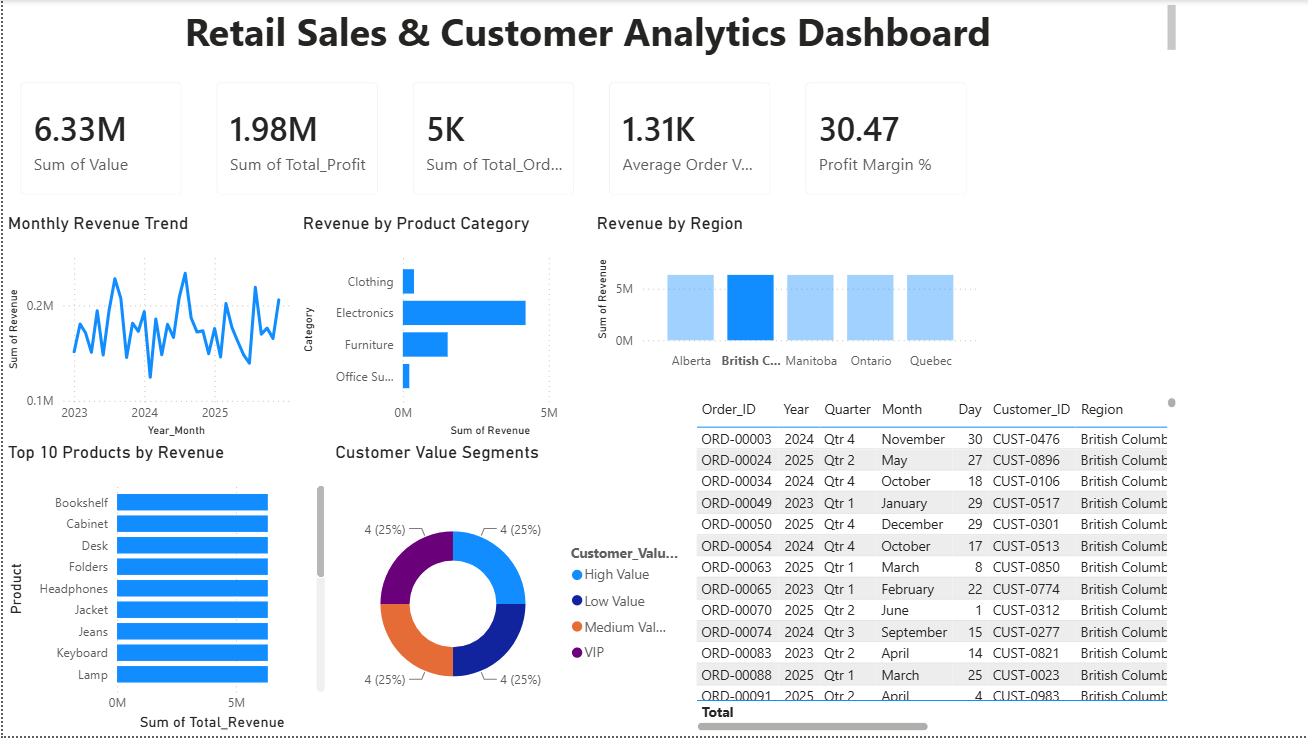

What the dashboard file says about the page in this screenshot:
{"tool":"powerbi","page":{"name":"Page 1","canvas":[1280,720],"ordinal":0},"visuals":[{"type":"textbox","box":[0,0,1152,64],"z":0},{"type":"cardVisual","fields":{"Data":["Sum(retail_kpis.Value)"]},"box":[0,64,192,144],"z":1},{"type":"cardVisual","fields":{"Data":["Sum(customer summary.Total_Profit)"]},"box":[192,64,192,144],"z":2},{"type":"cardVisual","fields":{"Data":["Sum(customer summary.Total_Orders)"]},"box":[384,64,192,144],"z":3},{"type":"cardVisual","fields":{"Data":["customer summary.Average Order Value"]},"box":[576,64,192,144],"z":4},{"type":"cardVisual","fields":{"Data":["customer summary.Profit Margin %"]},"box":[768,64,192,144],"z":5},{"type":"lineChart","title":"Monthly Revenue Trend","fields":{"Y":["Sum(monthly sales.Revenue)"],"Category":["monthly sales.Year_Month"]},"box":[0,208,288,224],"z":6},{"type":"clusteredBarChart","title":"Revenue by Product Category","fields":{"Category":["product summary.Category"],"Y":["Sum(product summary.Revenue)"]},"box":[288,208,288,224],"z":7},{"type":"clusteredColumnChart","title":"Revenue by Region","fields":{"Category":["region summary.Region"],"Y":["Sum(product summary.Revenue)"]},"box":[576,208,384,160],"z":8},{"type":"clusteredBarChart","title":"Top 10 Products by Revenue","fields":{"Y":["Sum(customer summary.Total_Revenue)"],"Category":["product summary.Product"]},"box":[0,432,320,288],"z":9},{"type":"donutChart","title":"Customer Value Segments","fields":{"Category":["customer summary.Customer_Value_Segment"],"Y":["CountNonNull(customer_segment_summary.Customers)"]},"box":[320,432,352,288],"z":10},{"type":"tableEx","fields":{"Values":["retail sales.Order_ID","retail sales.Order_Date.Variation.Date Hierarchy.Year","retail sales.Order_Date.Variation.Date Hierarchy.Quarter","retail sales.Order_Date.Variation.Date Hierarchy.Month","retail sales.Order_Date.Variation.Date Hierarchy.Day","customer summary.Customer_ID","region summary.Region","product summary.Category","product summary.Product","Sum(retail sales.Quantity)","customer_segment_summary.Revenue","customer_segment_summary.Profit"]},"box":[672,384,480,336],"z":11}]}

Visuals, with their boxes in screenshot pixels (x1, y1, x2, y2), scaled from the page's 1280x720 canvas onto the 1308x738 screenshot:
textbox: <box>0,0,1177,66</box>
cardVisual - Sum(retail_kpis.Value): <box>0,66,196,213</box>
cardVisual - Sum(customer summary.Total_Profit): <box>196,66,392,213</box>
cardVisual - Sum(customer summary.Total_Orders): <box>392,66,589,213</box>
cardVisual - customer summary.Average Order Value: <box>589,66,785,213</box>
cardVisual - customer summary.Profit Margin %: <box>785,66,981,213</box>
"Monthly Revenue Trend" lineChart: <box>0,213,294,443</box>
"Revenue by Product Category" clusteredBarChart: <box>294,213,589,443</box>
"Revenue by Region" clusteredColumnChart: <box>589,213,981,377</box>
"Top 10 Products by Revenue" clusteredBarChart: <box>0,443,327,737</box>
"Customer Value Segments" donutChart: <box>327,443,687,737</box>
tableEx - retail sales.Order_ID x retail sales.Order_Date.Variation.Date Hierarchy.Year: <box>687,394,1177,737</box>
